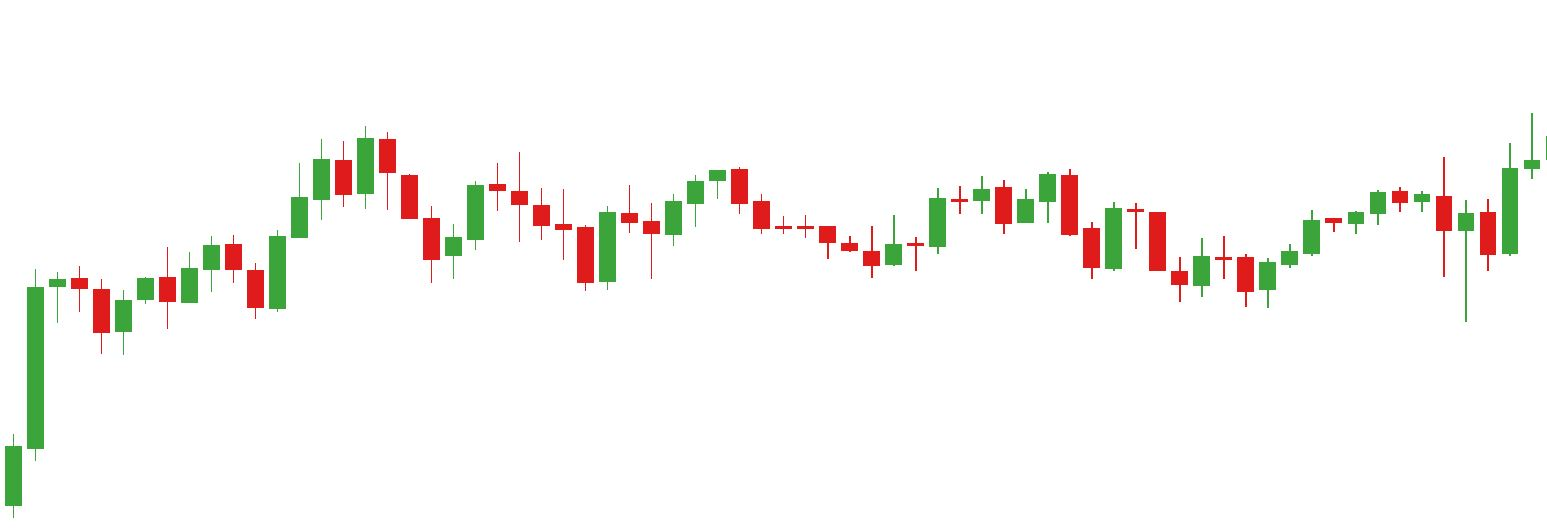buy: (1231, 210, 1476, 326)
